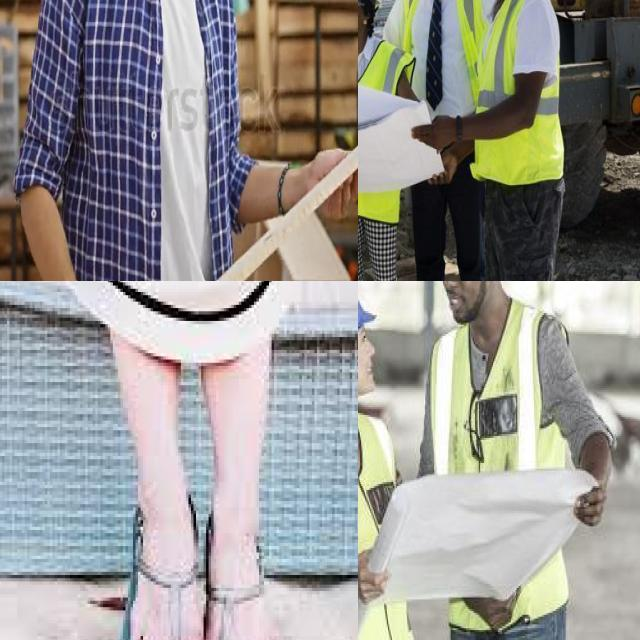No_Glasses: (358, 325, 374, 355)
Sandals: (89, 466, 295, 640)
face_nomask: (436, 281, 482, 326), (358, 324, 380, 405)
hand_noglove: (413, 113, 463, 166), (358, 547, 390, 612), (578, 480, 610, 532)
person: (13, 0, 251, 281), (408, 281, 580, 640), (469, 0, 570, 281), (358, 281, 427, 640), (402, 0, 481, 281), (358, 0, 411, 281)
vest: (434, 313, 560, 613), (475, 0, 568, 189), (358, 411, 413, 640), (358, 32, 406, 229), (404, 0, 474, 123)
